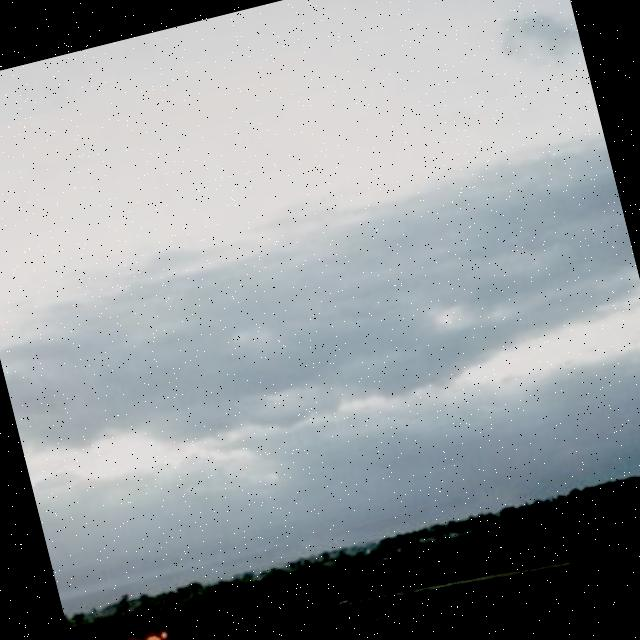Sc: (1, 1, 640, 563)
